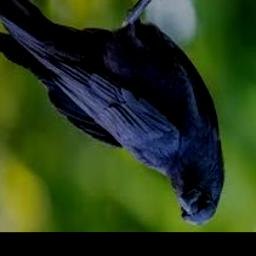Crow: (0, 0, 226, 226)
